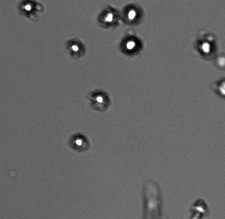Living Cell: (96, 3, 120, 27), (90, 86, 111, 109), (122, 3, 143, 25), (120, 34, 142, 55), (196, 35, 215, 58), (65, 38, 86, 56), (18, 1, 40, 17), (70, 131, 88, 150)
